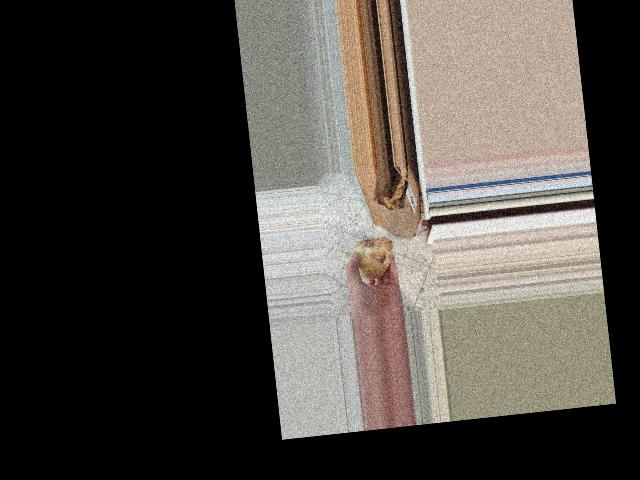onion: (346, 232, 396, 284)
